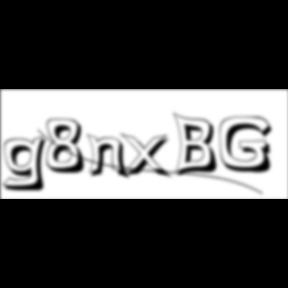8: (46, 117, 92, 176)
B: (173, 111, 223, 179)
G: (220, 116, 278, 176)
g: (2, 134, 54, 194)
n: (86, 132, 134, 181)
x: (120, 132, 176, 181)
